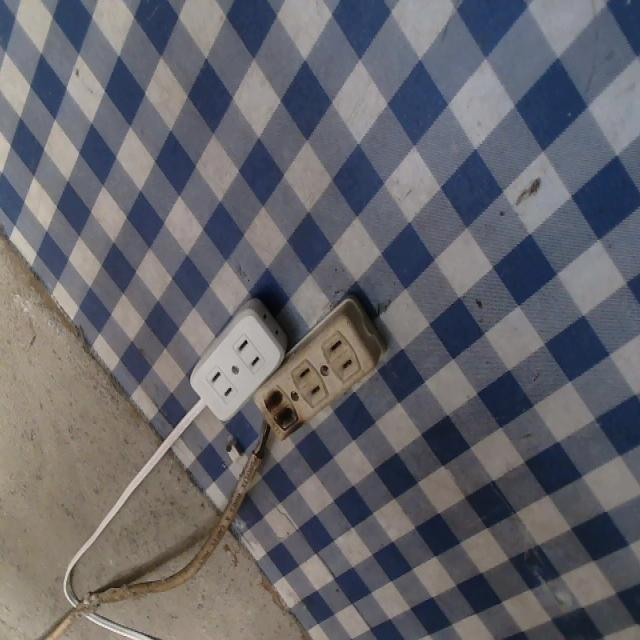-: (261, 385, 300, 440)
